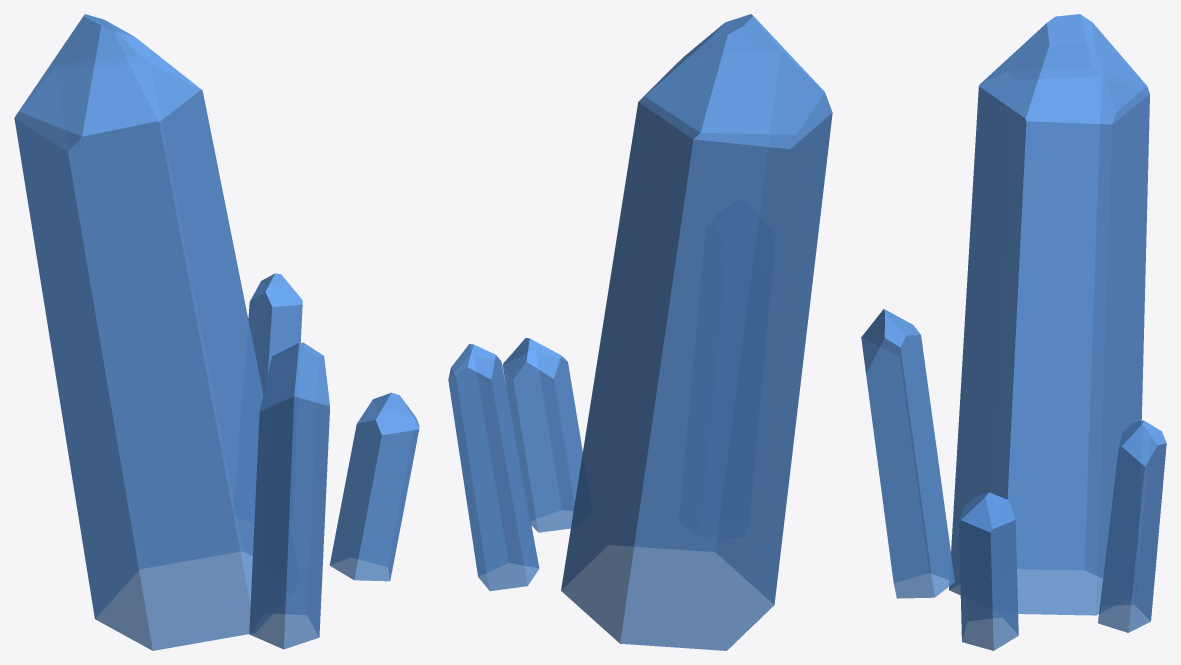
File: Crystals_l_06.fbx
3 renders of one model, left to right at view 1: azimuth 30°, elevation 25°; view 2: azimuth 150°, elevation 25°; view 3: azimuth 270°, elevation 25°, orthographic. The views are drawn at different scales.
Visible parts, largest first — view 1: Crystals_l_06; view 2: Crystals_l_06; view 3: Crystals_l_06.
Part boxes in pixels (<box>): Crystals_l_06: <box>14,14,419,650</box>; Crystals_l_06: <box>448,14,832,650</box>; Crystals_l_06: <box>861,14,1166,650</box>.
Bounding box in the file's own units: 146 × 248 × 125.
